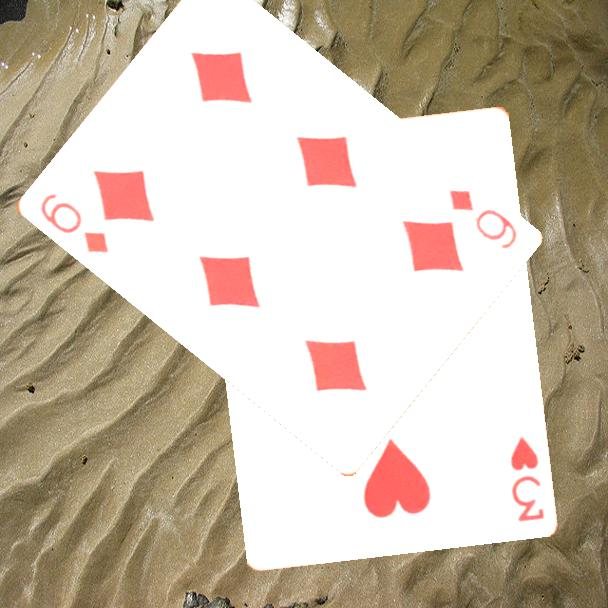d06: (36, 189, 111, 257), (445, 186, 520, 252)
h03: (506, 432, 546, 524)
